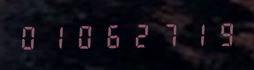nine: (206, 18, 232, 48)
one: (44, 21, 70, 50), (179, 19, 205, 48)
seven: (152, 19, 178, 49)
six: (98, 20, 124, 50)
two: (125, 20, 151, 49)
zero: (17, 21, 43, 51), (71, 20, 97, 50)
